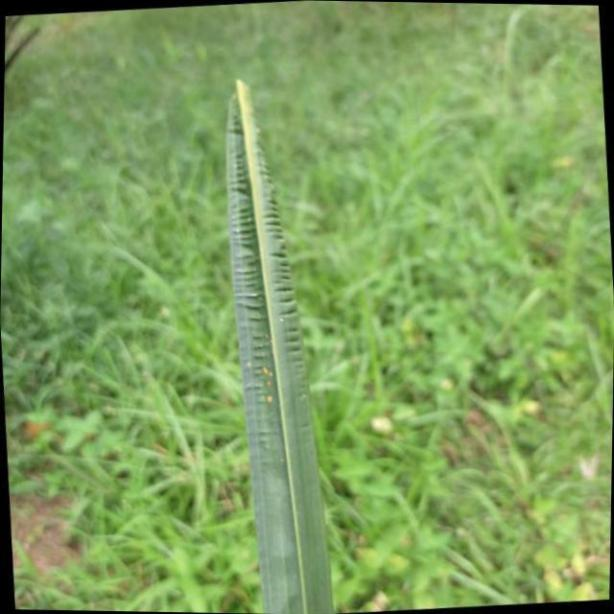Boron: (217, 72, 331, 612)
